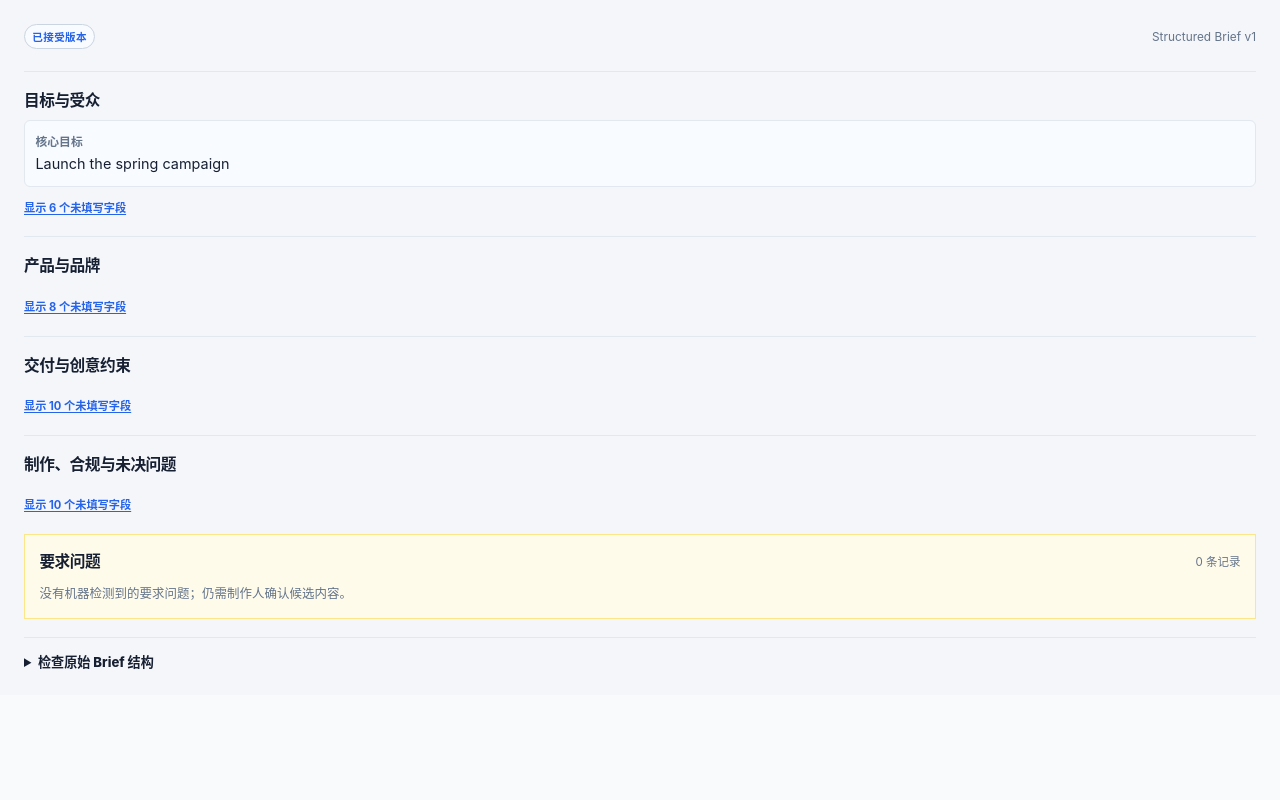
Test case: display layer controls › hides empty Brief fields by default and reveals them on request
The image size is (1280, 800).
Expected: the text "期望行动" is not shown
Expected: the text "核心目标" is shown, [35,135,83,149]
Step 1. Click the 1st button → (75, 207), box [24,199,126,215]
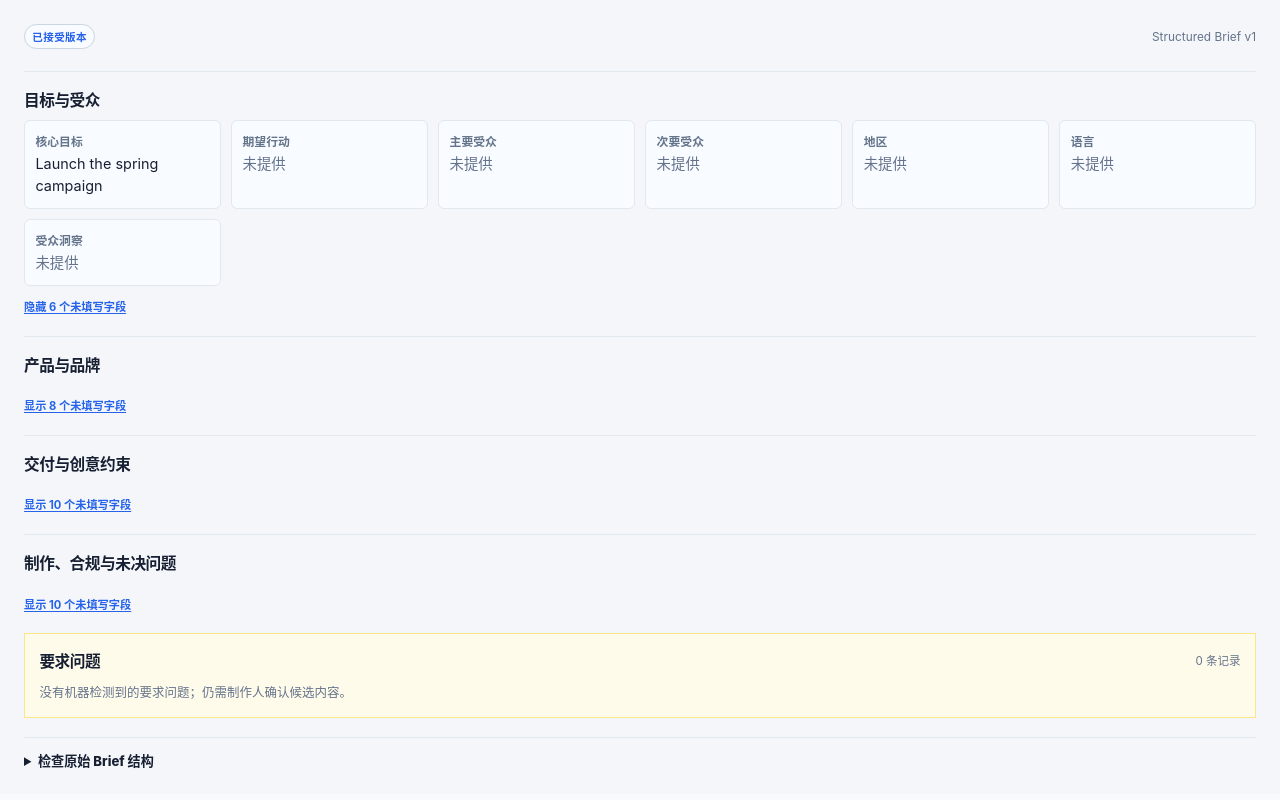
Expected: the text "期望行动" is shown, [242,135,290,149]
Expected: the 1st button is expanded, [24,298,126,314]
